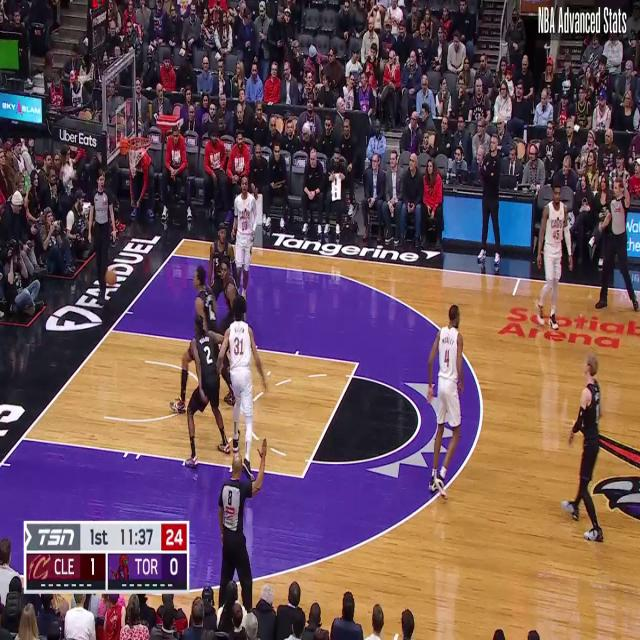ball: (103, 264, 118, 288)
judge: (217, 449, 270, 594), (594, 177, 637, 311), (92, 169, 115, 303)
player: (173, 268, 225, 439), (219, 297, 269, 473), (562, 352, 602, 541), (426, 307, 463, 498), (535, 177, 571, 328), (213, 265, 246, 408), (203, 220, 239, 345), (232, 177, 258, 293)
